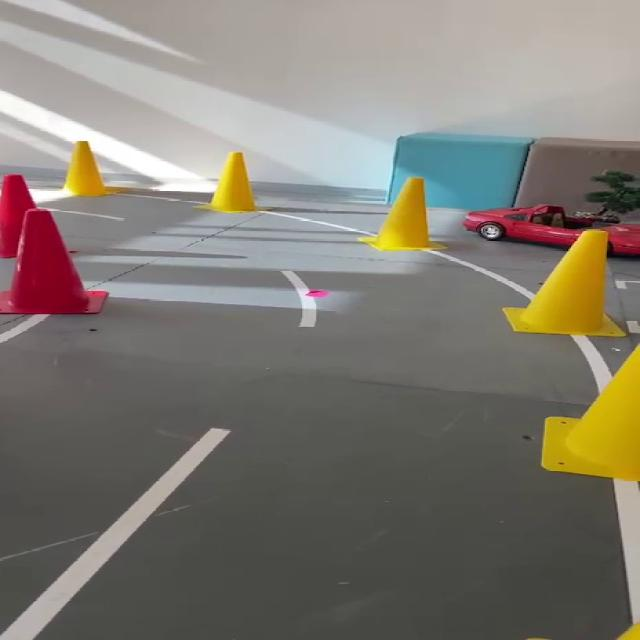Cone-red: (0, 209, 108, 314), (0, 175, 34, 258)
Cones-yellow: (542, 345, 639, 482), (503, 230, 625, 337), (360, 178, 433, 251), (206, 152, 257, 212), (65, 140, 116, 196)
